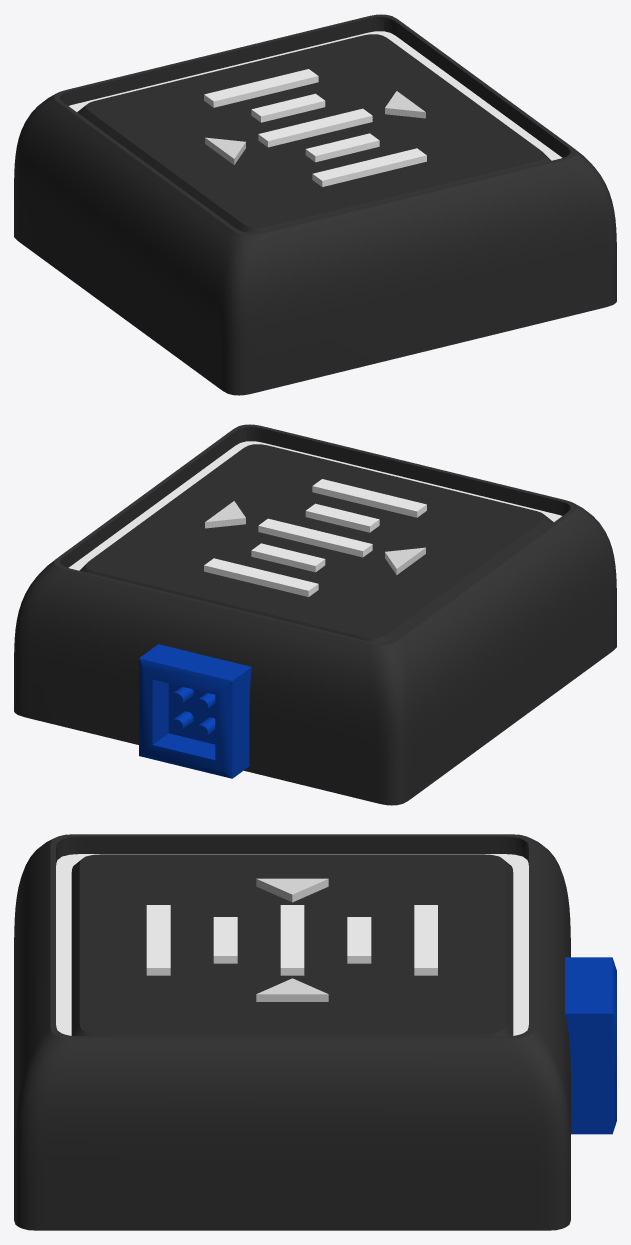
File: AltitudeSensor.gltf
The picture shows the model from 3 angles, top to bottom: view 1: azimuth 30°, elevation 25°; view 2: azimuth 150°, elevation 25°; view 3: azimuth 270°, elevation 25°; orthographic projection. The views are drawn at different scales.
Visible parts, largest first — view 1: base; view 2: base; view 3: base.
Boxes of the visible parts, x1,y1,x2,y2 form: base: [14, 14, 616, 395]; base: [14, 424, 616, 805]; base: [14, 834, 616, 1230].
Size of the model in its own units: 0.25 by 0.0875 by 0.2706.
